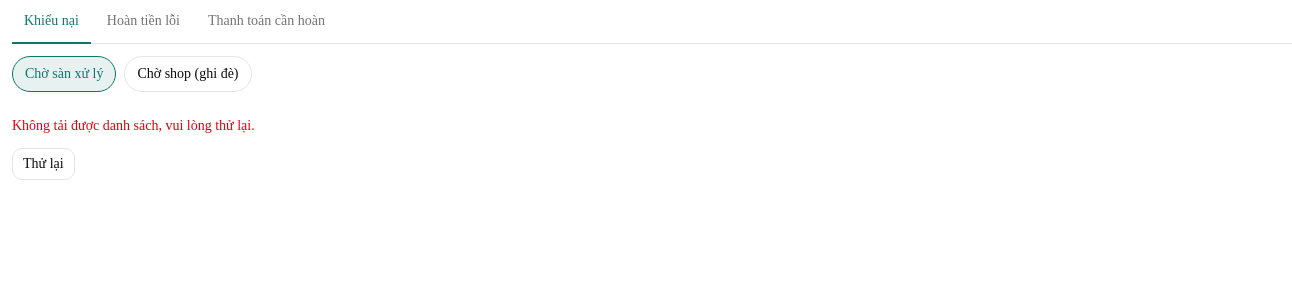
Test: AdminRefundsContainer — tab Khiếu nại › loading: aria-busy + sr-only; lỗi lần đầu: role=alert + "Thử lại" tải lại được
This screenshot has width=1292, height=296.
Expected: the element showing "Không tải được danh sách, vui lòng thử lại. Thử lại" is shown, [12,118,255,180]
Expected: the message shows "Không tải được danh sách", [12,118,255,133]
Click the button "Thử lại" at (43, 164), box [12,148,75,180]
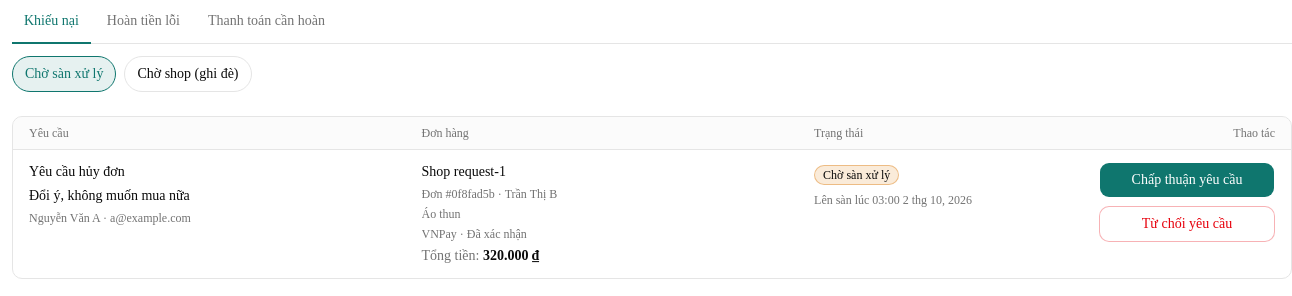
Expected: the text "Shop request-1" is shown, [422,164,506,179]
Expected: the message "Không tải được danh sách, vui lòng thử lại." is gone
